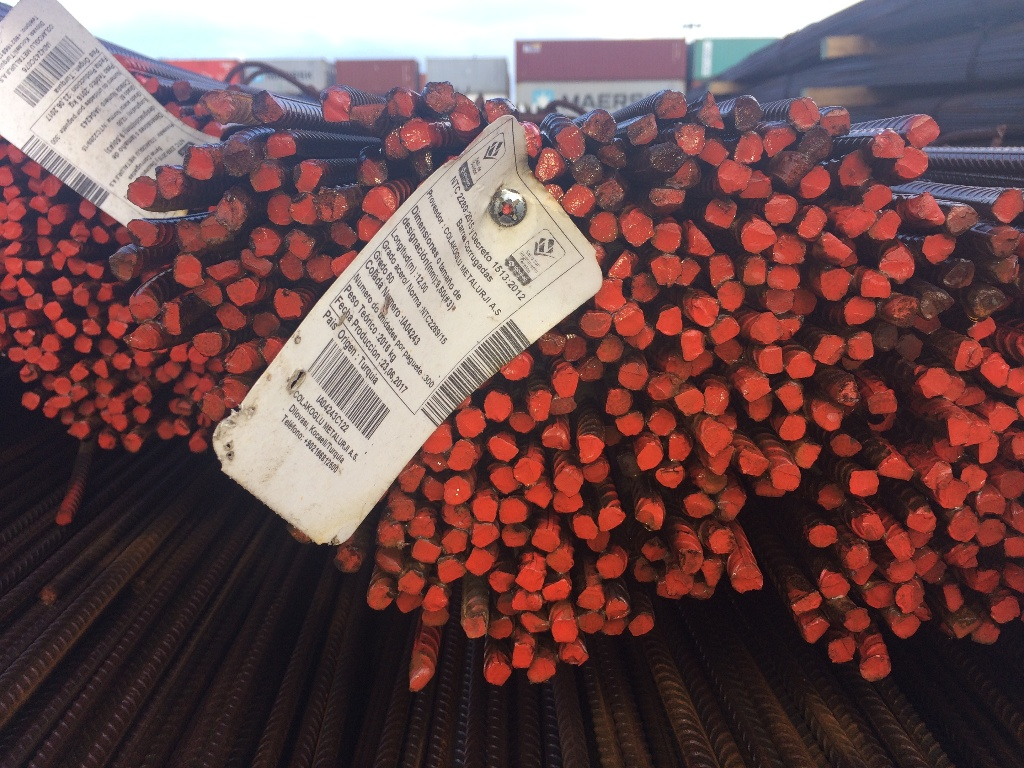dipstick: (594, 277, 629, 311), (361, 187, 397, 220), (621, 209, 652, 246), (452, 93, 481, 132), (649, 142, 686, 172), (778, 151, 811, 184), (841, 149, 870, 186), (743, 220, 775, 253), (914, 193, 945, 227), (993, 189, 1024, 223), (217, 195, 247, 230), (650, 252, 681, 285), (818, 268, 849, 301), (907, 116, 940, 147), (400, 117, 430, 151), (563, 186, 595, 217), (686, 225, 717, 257), (881, 247, 913, 278), (173, 254, 203, 287), (317, 187, 346, 221), (595, 179, 624, 213), (870, 129, 904, 158), (223, 140, 251, 175), (788, 96, 819, 127), (897, 148, 928, 179), (801, 130, 831, 162), (734, 97, 763, 130), (719, 489, 748, 522), (290, 193, 320, 224), (585, 112, 616, 142), (734, 133, 764, 164), (654, 223, 684, 254), (424, 81, 453, 113), (705, 199, 737, 228), (974, 288, 1006, 317), (646, 188, 690, 209), (717, 163, 750, 191), (981, 352, 1007, 387), (422, 423, 452, 453), (385, 87, 414, 118), (677, 125, 706, 156), (752, 313, 781, 344), (815, 334, 844, 365), (293, 162, 321, 194), (322, 90, 350, 122), (557, 128, 585, 160), (765, 195, 797, 223), (802, 166, 830, 198), (773, 238, 805, 266), (241, 250, 274, 277), (799, 207, 826, 240), (923, 235, 956, 262), (176, 221, 205, 251), (820, 231, 850, 260), (944, 260, 974, 289), (185, 148, 213, 179), (537, 150, 565, 181), (764, 127, 795, 155), (954, 340, 982, 371), (126, 326, 162, 350), (156, 165, 182, 198), (253, 92, 282, 121), (813, 402, 842, 431), (207, 92, 235, 122), (250, 228, 280, 256), (627, 116, 657, 144), (554, 466, 582, 496), (128, 176, 155, 207), (283, 231, 314, 258), (589, 212, 616, 243), (659, 90, 686, 121), (740, 171, 771, 198), (732, 565, 763, 592), (860, 655, 891, 682), (668, 162, 700, 188), (200, 217, 233, 242), (861, 185, 894, 210), (703, 423, 731, 452), (457, 409, 485, 438), (377, 520, 406, 548), (847, 208, 875, 237), (739, 450, 769, 477), (777, 383, 804, 413), (275, 286, 301, 317), (922, 291, 953, 317), (484, 98, 516, 123), (709, 253, 734, 285), (768, 266, 800, 291), (130, 296, 159, 323), (711, 318, 740, 345), (449, 440, 476, 469), (787, 352, 816, 379), (896, 584, 923, 613), (939, 481, 968, 508), (949, 207, 978, 234), (992, 227, 1019, 256), (351, 103, 385, 126), (879, 457, 913, 480), (845, 298, 875, 324), (268, 193, 292, 225), (228, 278, 256, 305), (224, 347, 252, 374), (632, 275, 659, 303), (823, 107, 850, 135), (484, 393, 512, 420), (574, 156, 600, 185), (989, 405, 1018, 431), (251, 165, 281, 190), (694, 472, 731, 492), (109, 253, 136, 280), (360, 158, 387, 185), (616, 309, 643, 336), (773, 464, 800, 491), (921, 368, 948, 395), (218, 303, 246, 329), (490, 466, 516, 494), (445, 477, 471, 505), (821, 574, 849, 600), (992, 597, 1018, 625), (925, 461, 951, 489), (873, 212, 901, 238), (978, 519, 1004, 547), (128, 220, 157, 245), (266, 134, 295, 159), (951, 512, 976, 541), (861, 272, 890, 297), (335, 548, 365, 572), (160, 301, 181, 335), (649, 409, 676, 435), (514, 459, 540, 486), (499, 499, 526, 525), (468, 549, 494, 576), (828, 636, 854, 663), (657, 307, 682, 335), (766, 290, 794, 315), (472, 524, 500, 549), (399, 571, 427, 596), (953, 543, 978, 571), (260, 338, 284, 367), (618, 365, 647, 389), (894, 297, 918, 326), (700, 95, 721, 128), (685, 494, 715, 517), (832, 435, 862, 458), (890, 615, 920, 638), (678, 389, 704, 415), (530, 657, 556, 683), (819, 484, 845, 510), (331, 221, 356, 248), (704, 387, 729, 414), (797, 443, 822, 470), (253, 313, 281, 337), (333, 250, 357, 278), (581, 313, 609, 337), (742, 257, 766, 285), (501, 355, 529, 379), (398, 466, 426, 490), (561, 642, 589, 666), (710, 447, 734, 475), (850, 472, 878, 496), (866, 584, 894, 608), (848, 331, 872, 359), (489, 436, 518, 459), (443, 505, 472, 528), (412, 539, 441, 562), (437, 559, 466, 582), (522, 121, 541, 156), (720, 282, 742, 312), (868, 392, 899, 413), (357, 216, 383, 241), (703, 138, 728, 164), (693, 300, 718, 326), (605, 391, 631, 416), (442, 530, 468, 555), (551, 618, 577, 643), (599, 553, 624, 579), (803, 619, 829, 644), (202, 394, 226, 421), (760, 347, 784, 374), (526, 484, 553, 508), (597, 507, 624, 531), (779, 416, 806, 440), (889, 533, 913, 560), (221, 378, 249, 401), (554, 367, 577, 395), (617, 413, 645, 436), (580, 435, 603, 463), (533, 529, 561, 552), (861, 513, 884, 541), (207, 261, 240, 280), (279, 255, 304, 280), (308, 256, 333, 281), (578, 586, 603, 611), (638, 444, 662, 470), (1000, 472, 1024, 498), (953, 614, 980, 637), (682, 331, 704, 359), (627, 328, 655, 350), (656, 466, 684, 488), (810, 525, 838, 547), (997, 256, 1019, 284), (887, 561, 916, 582), (1003, 563, 1024, 592), (385, 128, 404, 160), (601, 144, 626, 168), (679, 259, 699, 289), (563, 336, 587, 361), (638, 504, 662, 529), (366, 585, 390, 610), (710, 529, 734, 554), (845, 608, 870, 632), (898, 335, 923, 359), (650, 377, 676, 400), (609, 252, 631, 279), (388, 500, 415, 522), (518, 569, 545, 591), (793, 592, 821, 613), (714, 342, 743, 362), (529, 391, 549, 420), (979, 435, 999, 464), (473, 497, 497, 521), (598, 338, 623, 361), (195, 333, 221, 355), (744, 377, 770, 399), (543, 427, 569, 449), (195, 285, 222, 306), (668, 435, 689, 462), (502, 527, 529, 548), (543, 578, 570, 599), (632, 560, 660, 580), (423, 587, 447, 610), (630, 613, 654, 636), (748, 398, 771, 422), (964, 467, 987, 491), (512, 591, 541, 610), (577, 360, 602, 382), (538, 333, 564, 354), (947, 415, 967, 442), (968, 319, 995, 339), (549, 396, 577, 415), (703, 558, 722, 586), (908, 513, 936, 532), (793, 291, 816, 314), (411, 516, 434, 539), (488, 616, 511, 639), (782, 316, 804, 340), (575, 515, 597, 539), (667, 573, 691, 595), (488, 662, 510, 686), (548, 551, 573, 572), (851, 563, 876, 584), (583, 462, 609, 482), (641, 542, 667, 562), (682, 548, 702, 574), (512, 642, 532, 668), (520, 613, 547, 632), (977, 495, 1004, 514), (667, 357, 690, 379), (975, 571, 998, 593), (376, 552, 400, 573), (578, 613, 603, 633), (875, 325, 895, 350), (916, 317, 943, 335), (693, 351, 713, 375), (490, 572, 514, 592), (838, 381, 858, 405), (944, 583, 961, 611), (869, 414, 897, 431), (936, 442, 962, 460), (757, 481, 786, 497), (54, 318, 77, 338), (398, 593, 421, 613), (464, 616, 484, 639), (968, 425, 991, 445), (425, 477, 444, 501), (974, 625, 999, 643), (848, 547, 869, 568), (587, 530, 609, 550), (606, 599, 628, 619), (510, 413, 533, 432), (410, 669, 429, 692), (6, 199, 26, 220), (421, 611, 449, 626), (925, 563, 946, 583), (68, 421, 90, 440), (170, 398, 192, 417), (945, 378, 964, 400), (425, 453, 448, 471), (129, 366, 153, 383), (960, 389, 985, 405), (603, 619, 626, 636), (172, 81, 191, 101), (52, 276, 72, 295), (1005, 536, 1024, 556), (656, 582, 681, 597), (58, 239, 80, 256), (693, 582, 715, 599), (910, 531, 933, 547), (43, 176, 61, 196), (70, 222, 88, 242), (170, 343, 188, 363), (916, 552, 933, 573), (54, 377, 72, 396), (133, 385, 152, 403), (79, 200, 96, 220), (14, 329, 34, 346), (72, 285, 88, 306), (4, 257, 22, 275), (123, 434, 141, 452), (29, 197, 48, 214), (48, 206, 65, 225), (4, 241, 23, 258), (44, 301, 61, 320), (39, 353, 59, 369), (20, 365, 38, 382), (112, 353, 130, 370), (156, 422, 174, 439), (92, 225, 108, 244), (8, 311, 27, 327), (1, 223, 21, 238), (718, 415, 738, 430), (25, 293, 42, 310), (23, 393, 40, 410), (71, 364, 88, 381), (155, 366, 172, 383), (86, 263, 104, 279), (82, 319, 100, 335), (73, 337, 91, 353), (99, 339, 117, 355), (188, 347, 206, 363), (498, 596, 514, 614), (97, 283, 112, 302), (11, 144, 24, 165), (68, 259, 85, 275), (72, 384, 88, 401), (98, 434, 115, 450), (107, 399, 124, 415), (40, 588, 56, 605), (18, 277, 33, 295), (25, 260, 44, 274), (133, 352, 153, 365), (24, 162, 40, 178), (24, 347, 40, 363), (43, 336, 59, 352), (133, 407, 149, 423), (190, 437, 207, 452), (1013, 511, 1024, 534), (36, 237, 50, 255), (3, 185, 19, 200), (8, 347, 24, 362), (174, 419, 189, 435), (94, 361, 108, 378), (165, 362, 182, 376), (37, 217, 50, 235), (95, 381, 113, 394), (28, 179, 43, 194), (116, 227, 130, 243), (1, 276, 17, 290), (78, 402, 94, 416), (207, 358, 223, 372), (99, 212, 116, 225), (165, 102, 179, 117), (93, 394, 107, 409), (198, 377, 213, 391), (183, 372, 198, 386), (1, 167, 12, 186), (42, 374, 55, 390), (144, 77, 157, 92), (60, 411, 75, 424), (113, 415, 126, 430), (53, 252, 65, 268), (53, 396, 70, 407), (194, 104, 207, 118), (43, 403, 56, 417), (196, 414, 211, 426), (86, 303, 98, 317), (56, 514, 68, 527), (175, 382, 189, 392), (102, 410, 111, 422)
